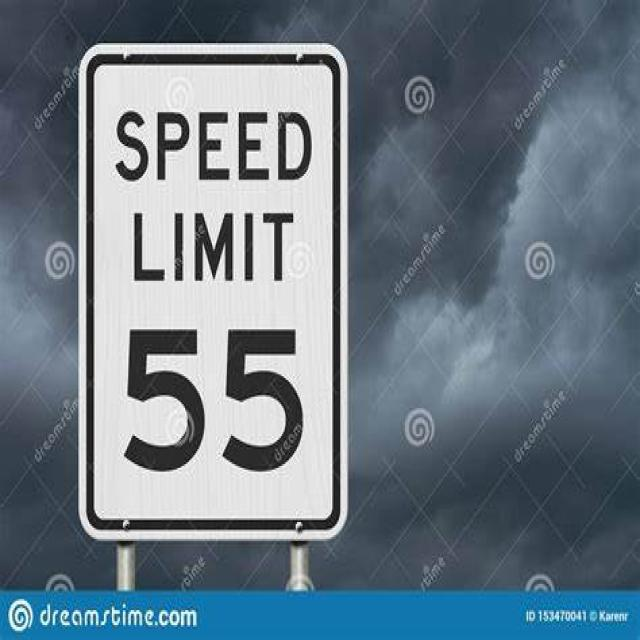speedLimit55: (80, 44, 345, 540)
